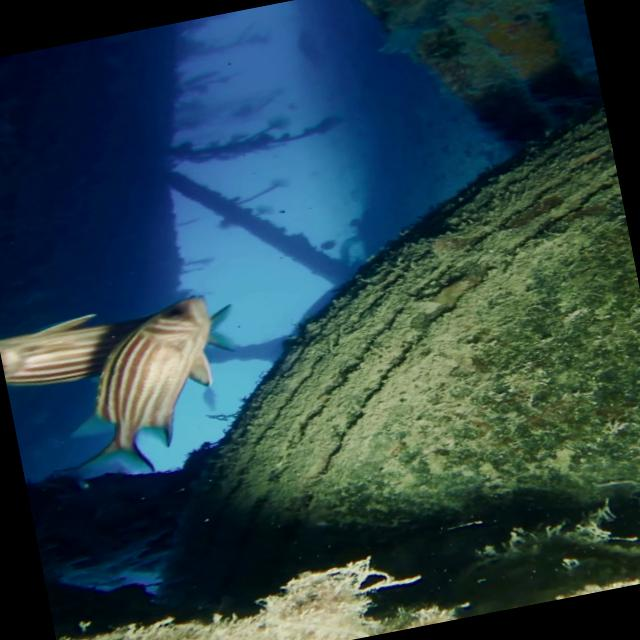Asker Baligi: (35, 286, 262, 490)
